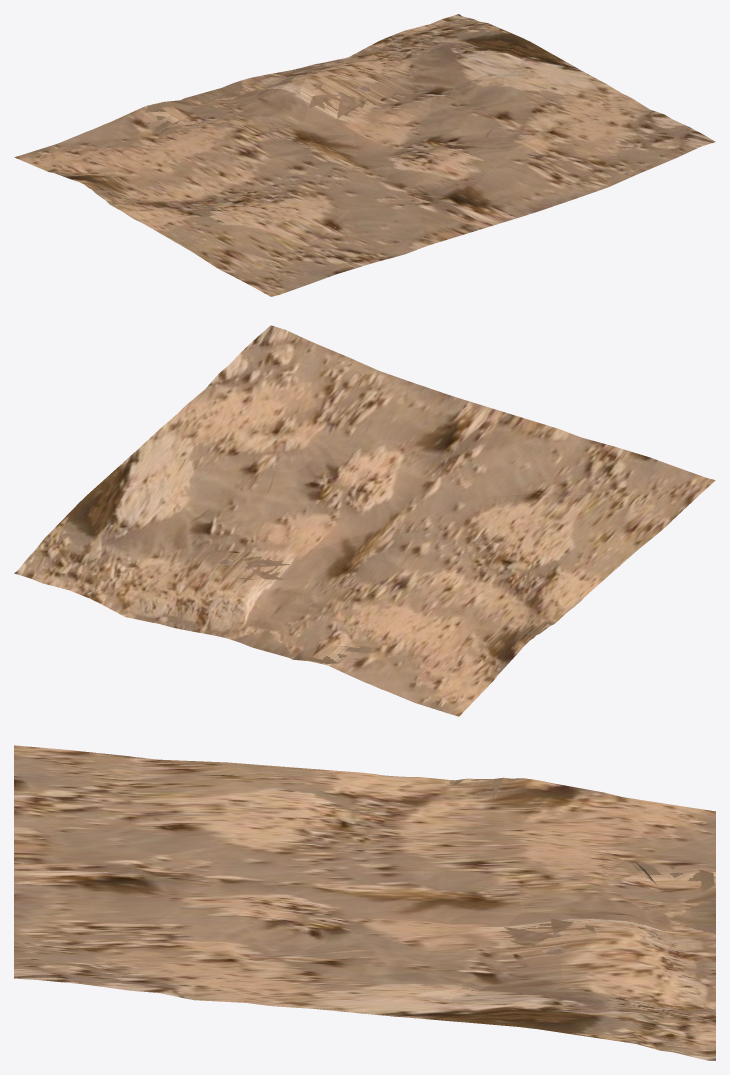
3 renders of one model, top to bottom at view 1: azimuth 30°, elevation 25°; view 2: azimuth 150°, elevation 25°; view 3: azimuth 270°, elevation 25°, orthographic. The views are drawn at different scales.
Size of the model in its own units: 1.04 by 0.2127 by 1.04.
Materials: 2 (2 with a texture image).
